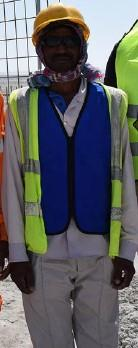hat: (27, 1, 103, 107)
vest: (14, 77, 138, 280), (1, 86, 31, 296), (107, 9, 138, 193)
